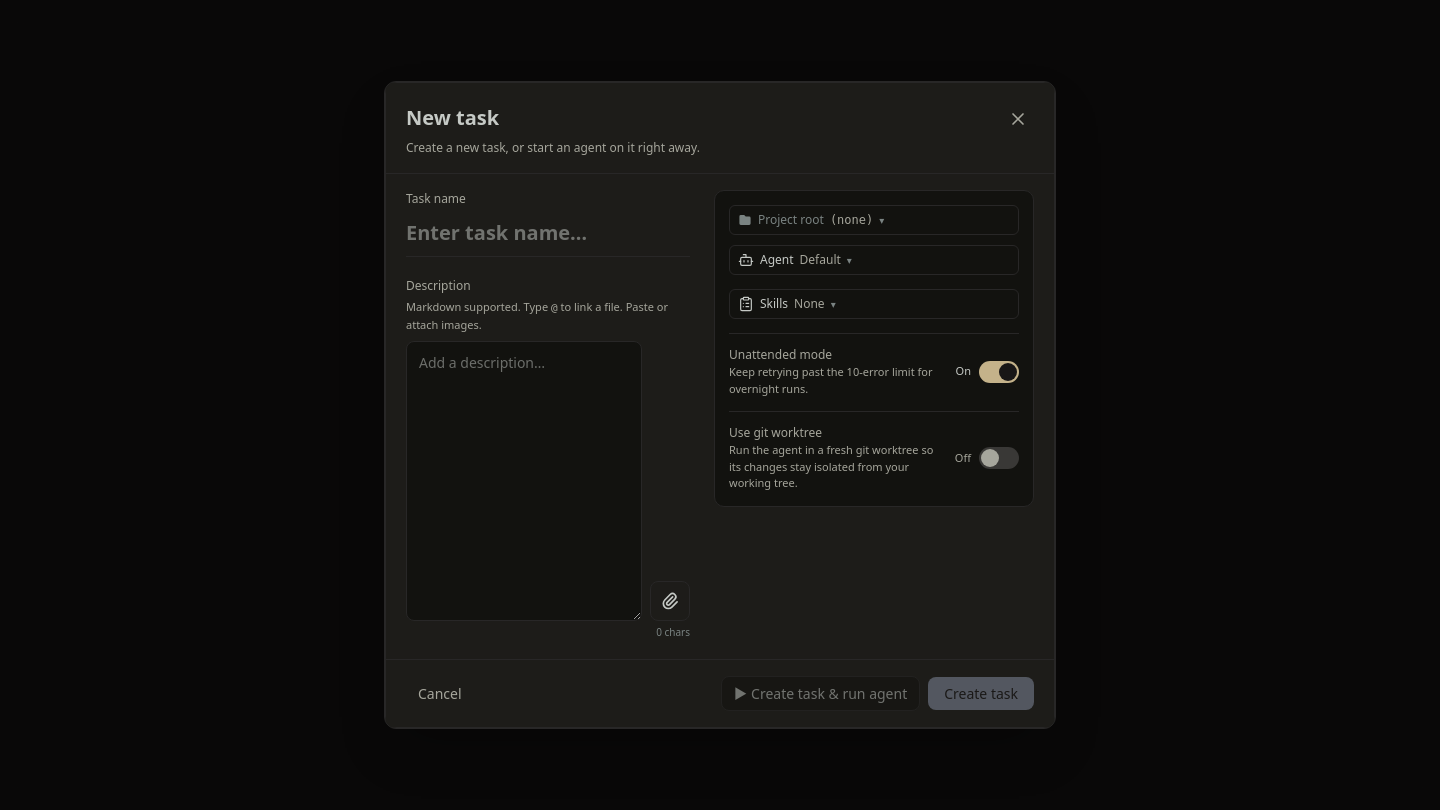
Scenario: KanbanTaskDetailDialog — agent picker › clicking the picker opens a dropdown with Default + each agent
The image size is (1440, 810).
Click the button with test id "kanban-task-detail-agent-picker" at (777, 260), box [729,245,1019,275]
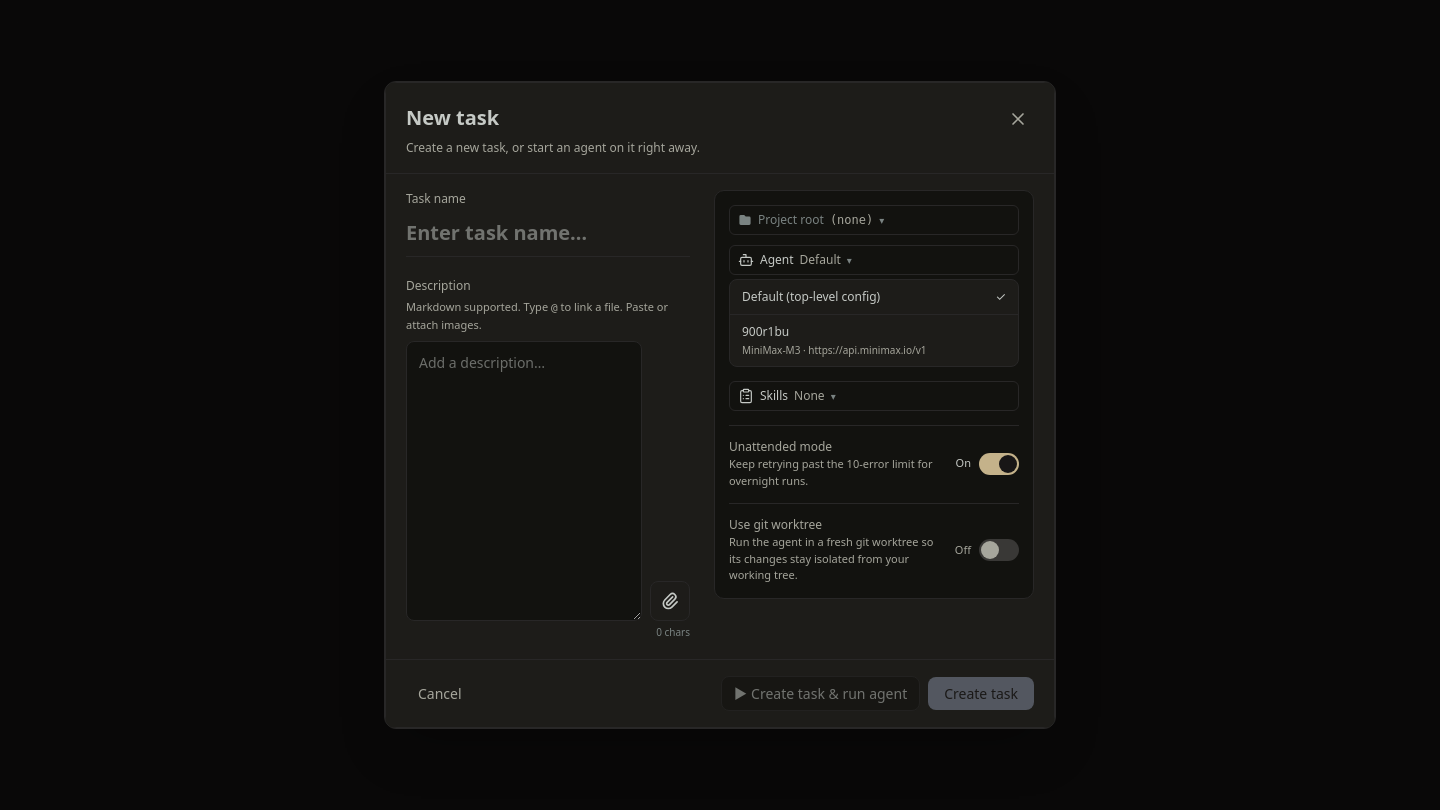
Now the element with test id "kanban-task-detail-agent-picker-dropdown" is shown, box [729,279,1019,367]
Now the button with test id "kanban-task-detail-agent-picker-item" shows "Default", box [730,280,1018,314]
Now the button with test id "kanban-task-detail-agent-picker-item" shows "900r1bu", box [730,314,1018,366]
